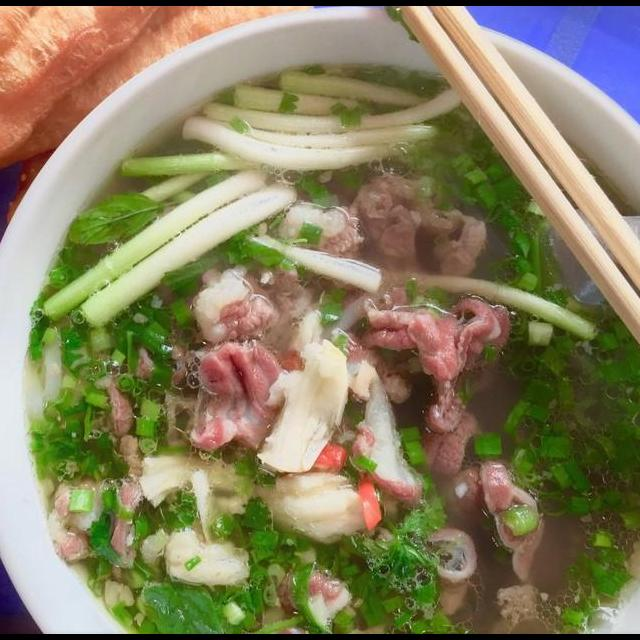thit bo: (264, 166, 497, 298), (349, 280, 516, 441), (43, 363, 150, 584), (314, 323, 426, 508), (172, 336, 306, 460), (432, 456, 549, 593), (184, 255, 323, 364), (252, 545, 354, 634)
